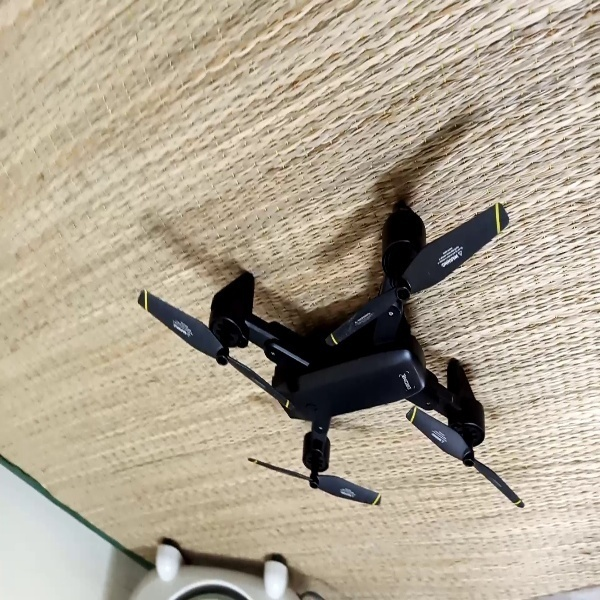drone: (133, 194, 528, 522)
